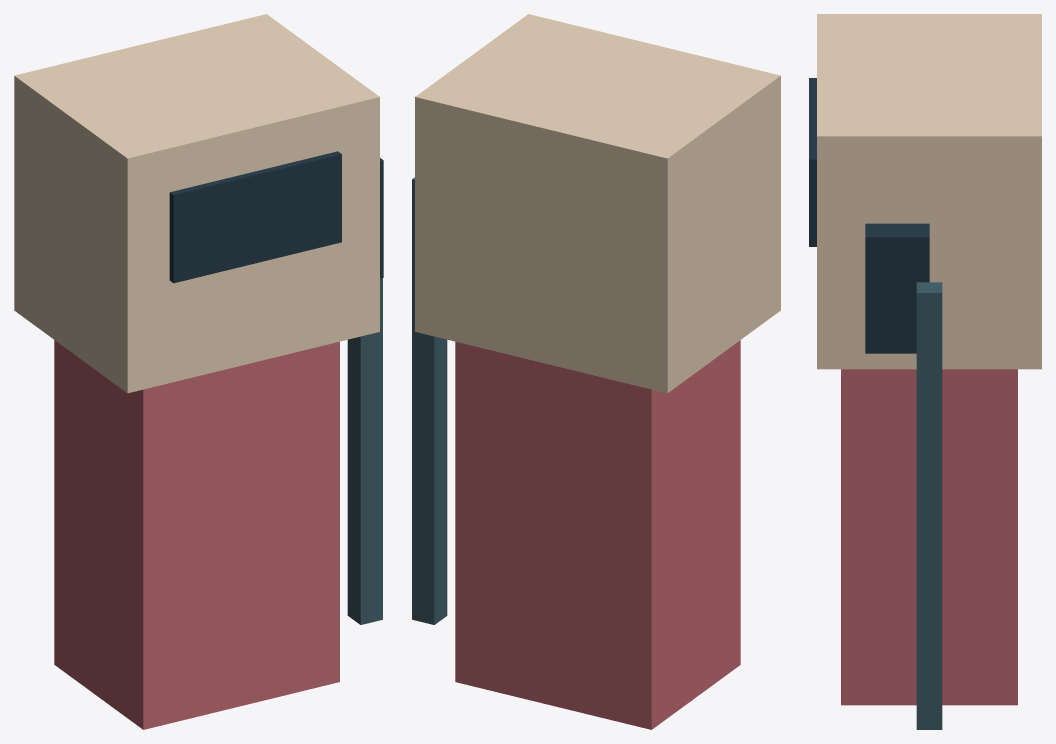
File: fuelPump.obj
3 views of the same model, side by side, from view 1: azimuth 30°, elevation 25°; view 2: azimuth 150°, elevation 25°; view 3: azimuth 270°, elevation 25° (orthographic).
Parts seen in each view (by area): view 1: fuelPump; view 2: fuelPump; view 3: fuelPump.
Boxes of the visible parts, x1,y1,x2,y2 form: fuelPump: (14,14,383,729); fuelPump: (412,14,780,729); fuelPump: (809,14,1041,729).
Size of the model in its own units: 1.09 by 2 by 0.725.
